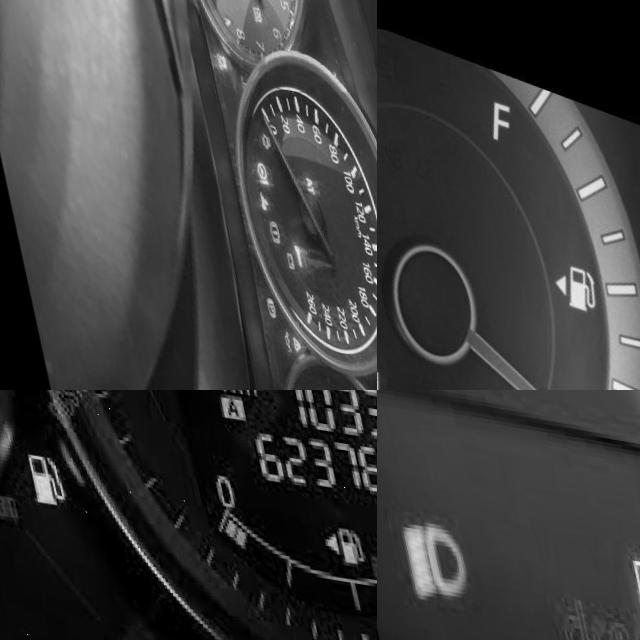Electronic Power Steering: (245, 151, 259, 175)
High Engine Coolant Temperature: (232, 63, 242, 79)
Seat Belt: (219, 5, 229, 16)
